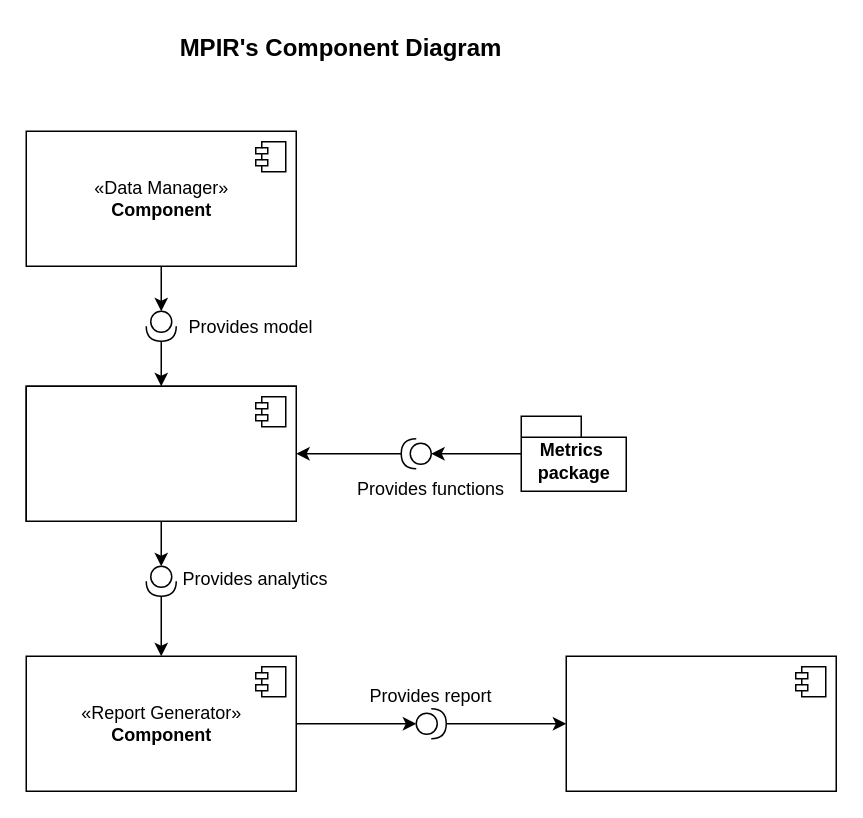
The diagram is 863 pixels wide and 818 high, and some of its shapes have lost their labels. Each missing label, with the centre of its shape:
«Analytics Engine» Component: [160,453]
«Report Management» Component: [700,723]
